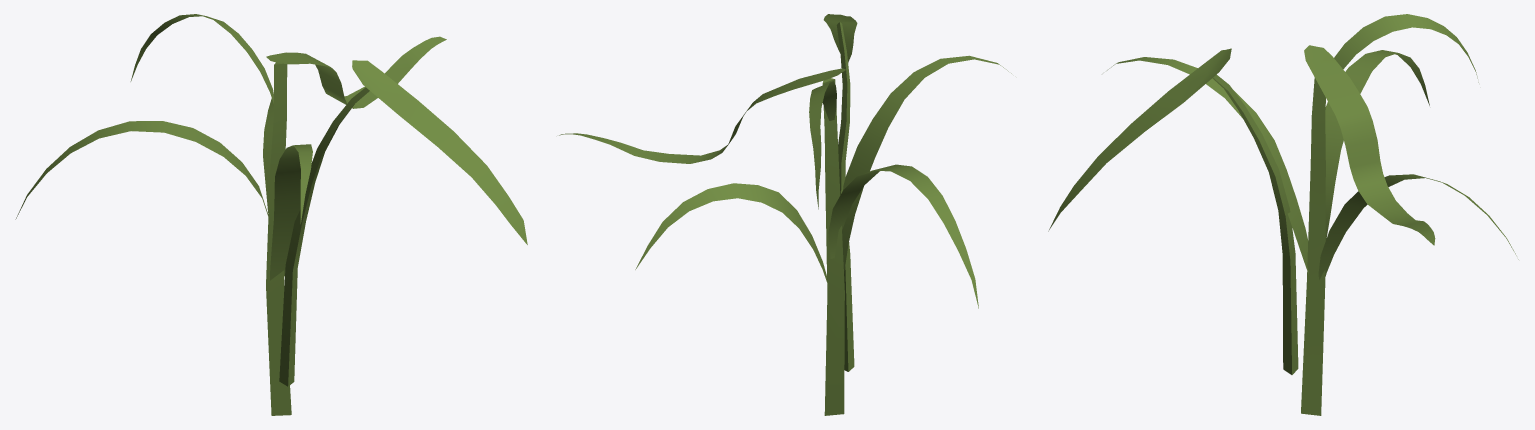
The model's file is plant_water_twig_B.fbx.
3 views of the same model, side by side, from view 1: azimuth 30°, elevation 25°; view 2: azimuth 150°, elevation 25°; view 3: azimuth 270°, elevation 25° (orthographic). The views are drawn at different scales.
Visible parts, largest first — view 1: plant_water_twig_B_leaf_G, plant_water_twig_B_twig_B, plant_water_twig_B_twig_A, plant_water_twig_B_leaf_F, plant_water_twig_B_leaf_E, plant_water_twig_B_leaf_A, plant_water_twig_B_leaf_D, plant_water_twig_B_leaf_C; view 2: plant_water_twig_B_twig_B, plant_water_twig_B_leaf_F, plant_water_twig_B_leaf_E, plant_water_twig_B_leaf_C, plant_water_twig_B_twig_A, plant_water_twig_B_leaf_A, plant_water_twig_B_leaf_D, plant_water_twig_B_leaf_G; view 3: plant_water_twig_B_leaf_A, plant_water_twig_B_twig_B, plant_water_twig_B_twig_A, plant_water_twig_B_leaf_G, plant_water_twig_B_leaf_E, plant_water_twig_B_leaf_F, plant_water_twig_B_leaf_D, plant_water_twig_B_leaf_C.
Boxes of the visible parts, bbox=[...] form: plant_water_twig_B_leaf_G: bbox=[352, 60, 527, 244]; plant_water_twig_B_twig_B: bbox=[266, 62, 291, 415]; plant_water_twig_B_twig_A: bbox=[279, 87, 369, 386]; plant_water_twig_B_leaf_F: bbox=[270, 144, 312, 280]; plant_water_twig_B_leaf_E: bbox=[15, 121, 270, 225]; plant_water_twig_B_leaf_A: bbox=[266, 36, 446, 108]; plant_water_twig_B_leaf_D: bbox=[130, 14, 273, 103]; plant_water_twig_B_leaf_C: bbox=[263, 98, 273, 214]; plant_water_twig_B_twig_B: bbox=[822, 78, 844, 415]; plant_water_twig_B_leaf_F: bbox=[842, 55, 1011, 273]; plant_water_twig_B_leaf_E: bbox=[828, 164, 978, 308]; plant_water_twig_B_leaf_C: bbox=[635, 183, 829, 290]; plant_water_twig_B_twig_A: bbox=[836, 22, 854, 371]; plant_water_twig_B_leaf_A: bbox=[559, 68, 845, 163]; plant_water_twig_B_leaf_D: bbox=[809, 81, 836, 209]; plant_water_twig_B_leaf_G: bbox=[823, 14, 857, 62]; plant_water_twig_B_leaf_A: bbox=[1304, 45, 1435, 245]; plant_water_twig_B_twig_B: bbox=[1301, 77, 1325, 415]; plant_water_twig_B_twig_A: bbox=[1212, 74, 1298, 374]; plant_water_twig_B_leaf_G: bbox=[1048, 48, 1231, 231]; plant_water_twig_B_leaf_E: bbox=[1325, 50, 1429, 240]; plant_water_twig_B_leaf_F: bbox=[1107, 57, 1308, 274]; plant_water_twig_B_leaf_D: bbox=[1334, 14, 1478, 82]; plant_water_twig_B_leaf_C: bbox=[1318, 174, 1518, 279].
Size of the model in its own units: 42.08 by 34.76 by 39.07.
